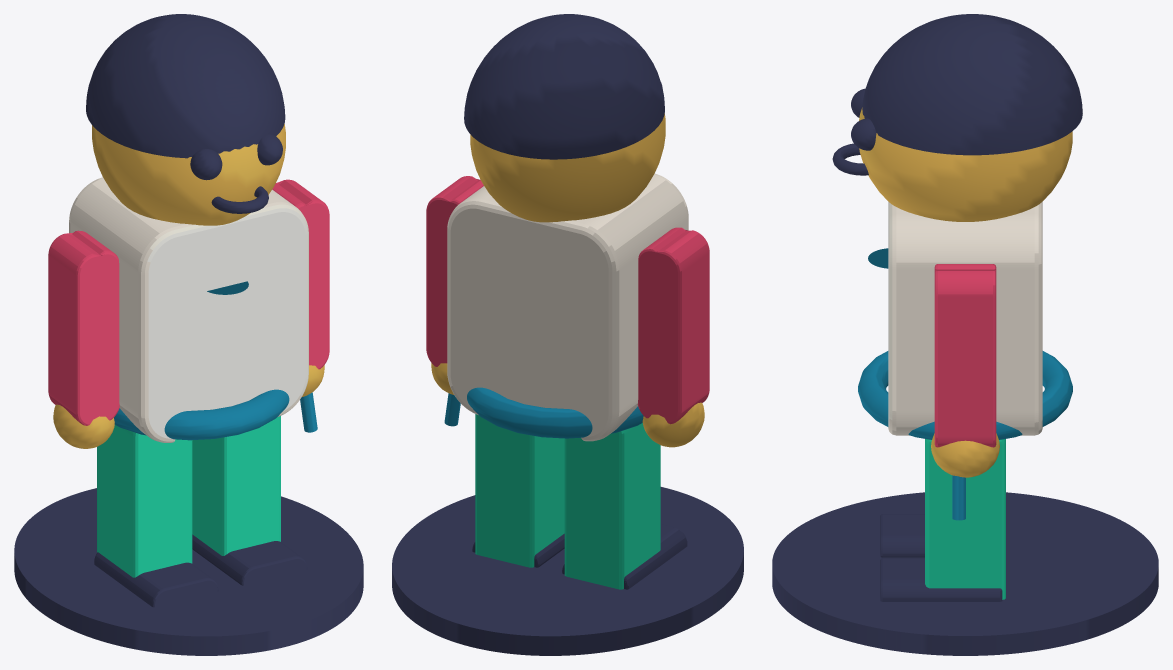
Rendered from 1096_古文观止_华山后洞.glb.
The picture shows the model from 3 angles, left to right: view 1: azimuth 30°, elevation 25°; view 2: azimuth 150°, elevation 25°; view 3: azimuth 270°, elevation 25°; orthographic projection.
Parts seen in each view (by area): view 1: card_1096; view 2: card_1096; view 3: card_1096.
Part boxes in pixels (x1,y1,x2,y2): card_1096: [14, 14, 363, 655]; card_1096: [392, 14, 743, 655]; card_1096: [772, 14, 1158, 655].
Bounding box in the file's own units: 0.5567 × 1 × 0.6254.
